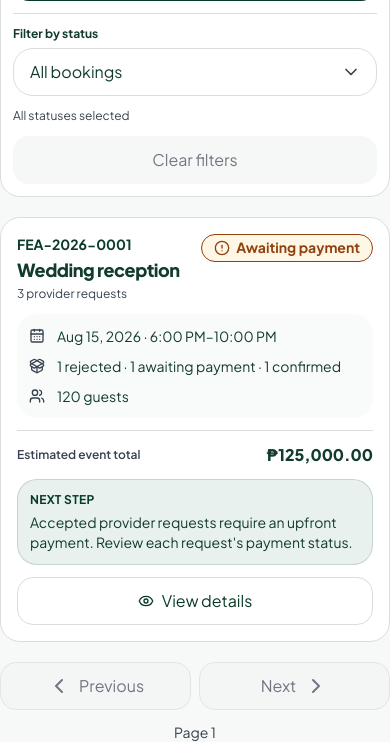
it: customer booking history and details › shows the full-only short-notice explanation in the booking drawer
(page scrolled)
Click the button with aria-label "View booking FEA-2026-0001": {"x": 195, "y": 601} [17,577,373,625]
(page scrolled)
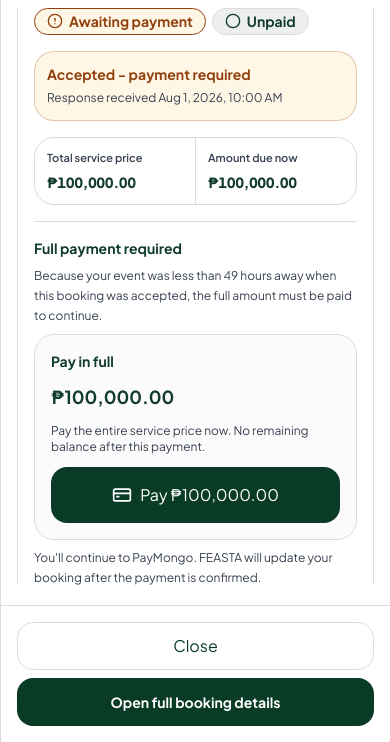
Now the number of buttons "Pay ₱100,000.00" is 1, box [51,467,340,523]
Now the text "Amount due now" shows "₱100,000.00", box [208,173,297,191]
Now the text "You'll continue to PayMongo. FEASTA will update your booking after the payment is confirmed." is shown, box [34,550,332,585]
